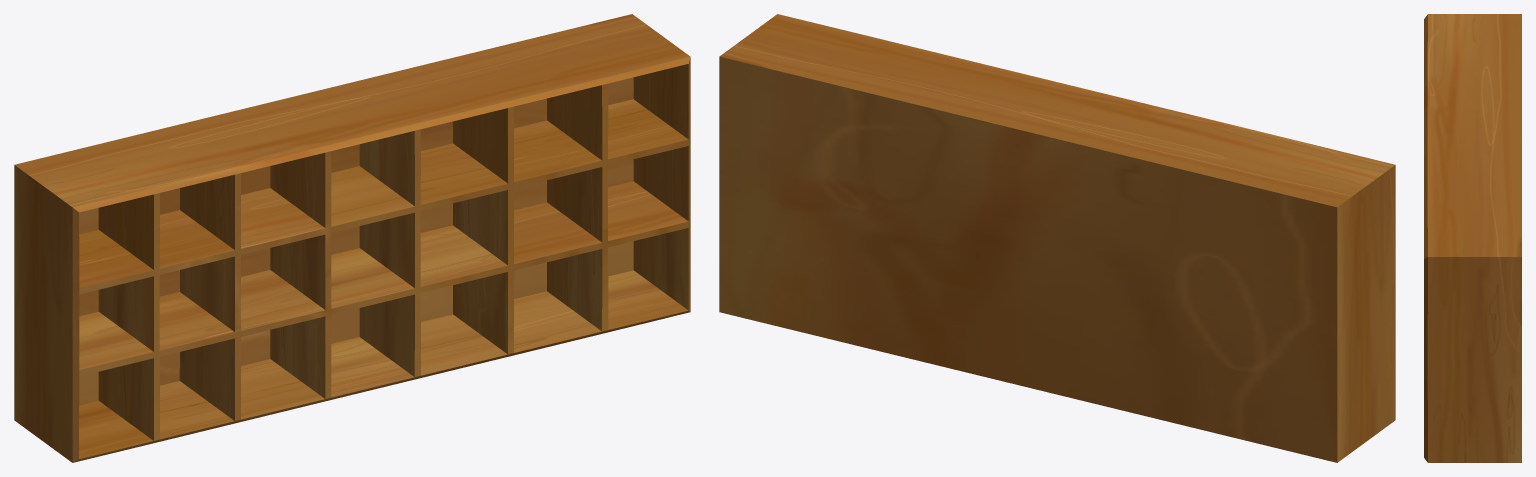
File: storage.fbx
3 views of the same model, side by side, from view 1: azimuth 30°, elevation 25°; view 2: azimuth 150°, elevation 25°; view 3: azimuth 270°, elevation 25° (orthographic). The views are drawn at different scales.
Visible parts, largest first — view 1: pCube46; view 2: pCube46; view 3: pCube46.
Part boxes in pixels (bbox=[...]): pCube46: bbox=[14, 14, 690, 462]; pCube46: bbox=[719, 14, 1395, 462]; pCube46: bbox=[1424, 14, 1521, 462].
Bounding box in the file's own units: 58.85 × 23.26 × 10.
1 material, 1 textured.
